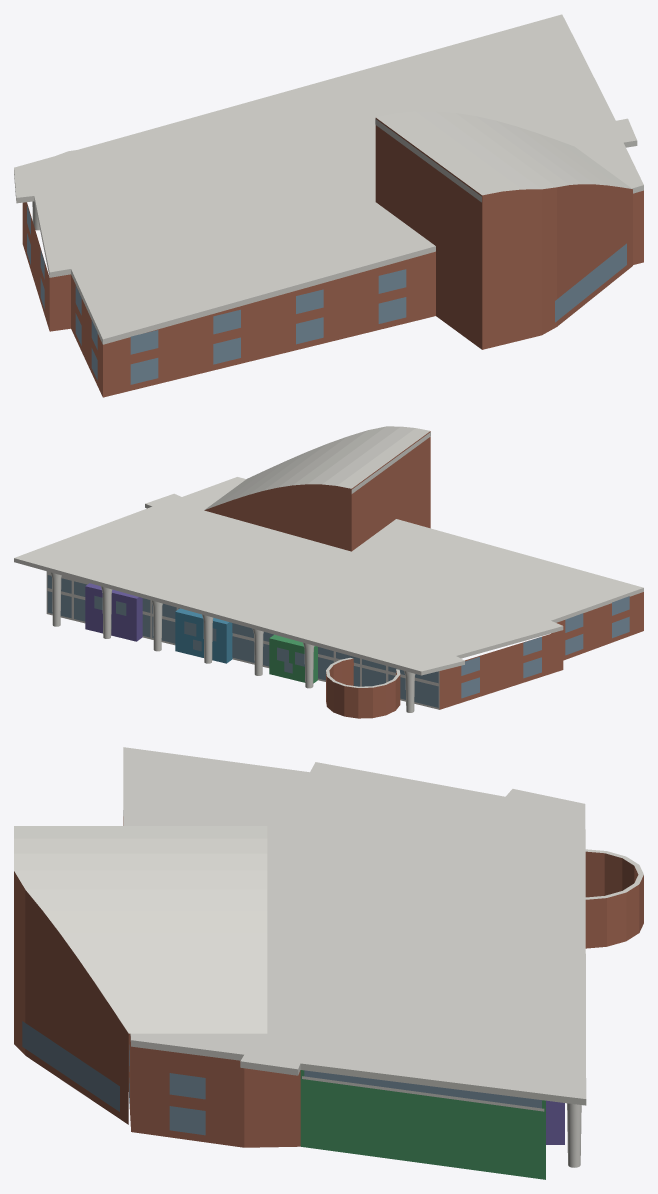
The model's file is clt-imaginon.glb.
3 views of the same model, one above another, from view 1: azimuth 30°, elevation 25°; view 2: azimuth 150°, elevation 25°; view 3: azimuth 270°, elevation 25° (orthographic). The views are drawn at different scales.
Parts seen in each view (by area): view 1: ImaginOn; view 2: ImaginOn; view 3: ImaginOn.
Boxes of the visible parts, <box> form: ImaginOn: <box>14,14,643,397</box>; ImaginOn: <box>14,426,643,718</box>; ImaginOn: <box>14,747,643,1179</box>.
Size of the model in its own units: 113 by 25.6 by 79.6.
